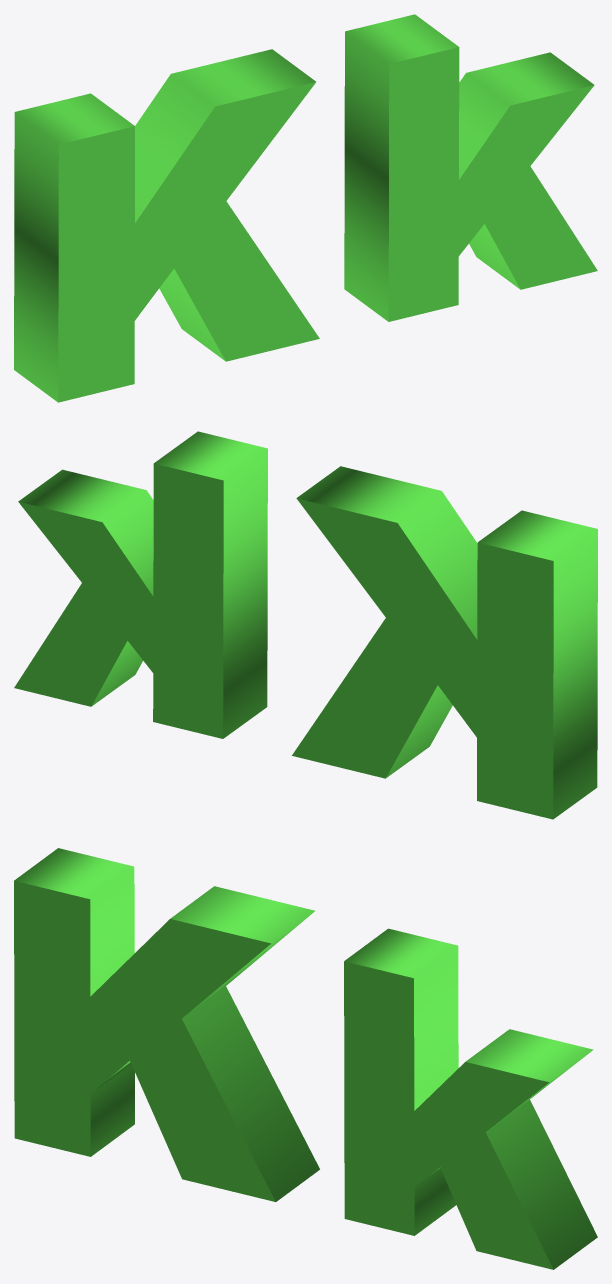
File: letra k.fbx
3 renders of one model, top to bottom at view 1: azimuth 30°, elevation 25°; view 2: azimuth 150°, elevation 25°; view 3: azimuth 330°, elevation 25°, orthographic.
Parts seen in each view (by area): view 1: Text; view 2: Text; view 3: Text.
Part boxes in pixels (x1,y1,x2,y2): Text: [14, 14, 597, 402]; Text: [14, 431, 597, 819]; Text: [14, 848, 597, 1269].
Bounding box in the file's own units: 113 × 51.56 × 16.21.
